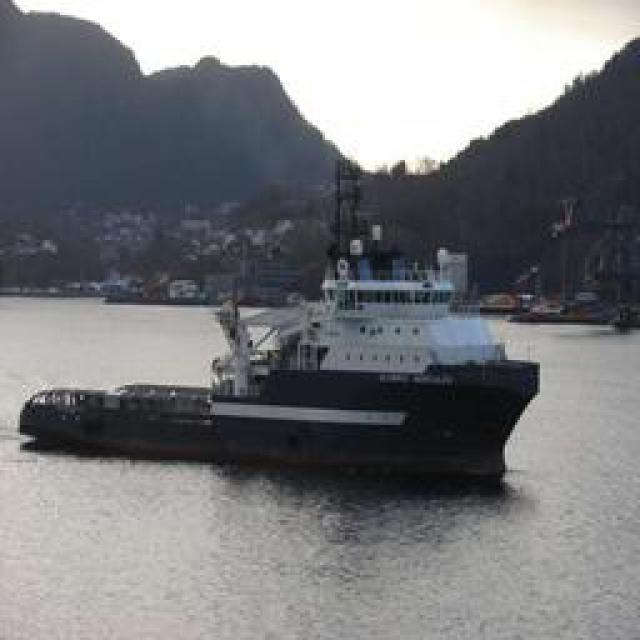Ship: (14, 244, 544, 487)
